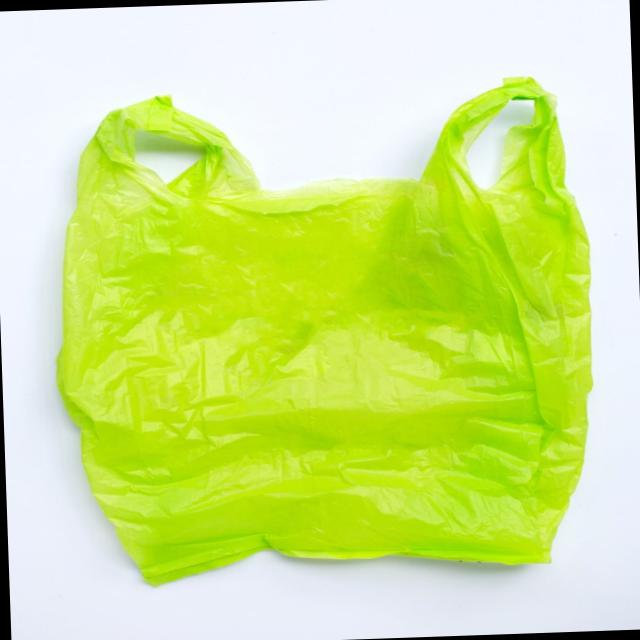plastic_bag: (20, 27, 640, 623)
